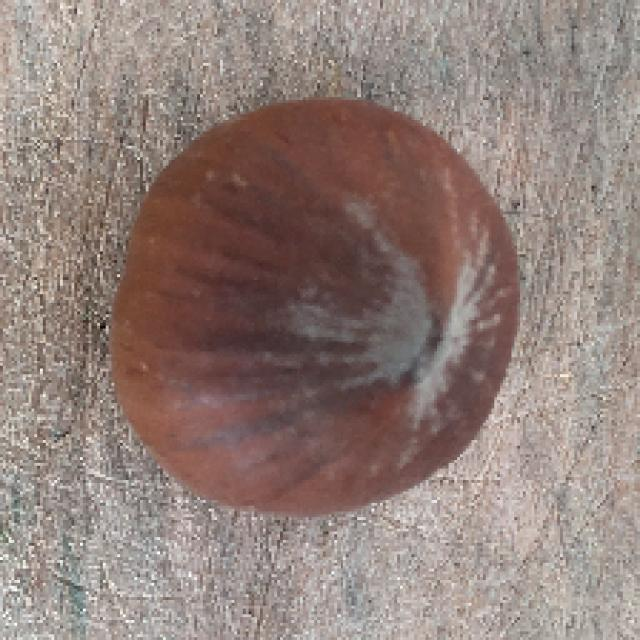DamagedHazelnut: (106, 98, 524, 521)
